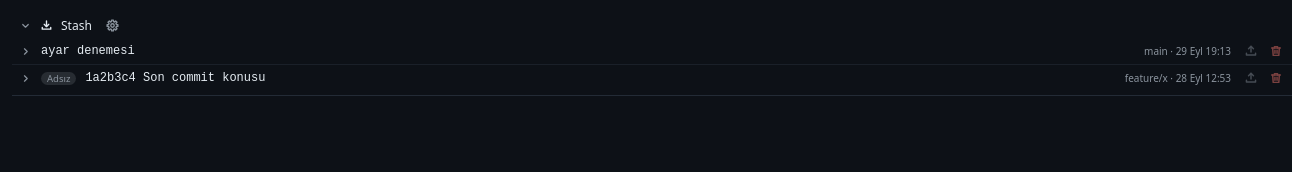
Test: uygulama › hata kutusu kapatılabiliyor ve başarılı deneme onu temizliyor
Click the 1st button named "Uygula (stash listede kalır)".
click(1251, 51)  # box [1239,40,1263,62]
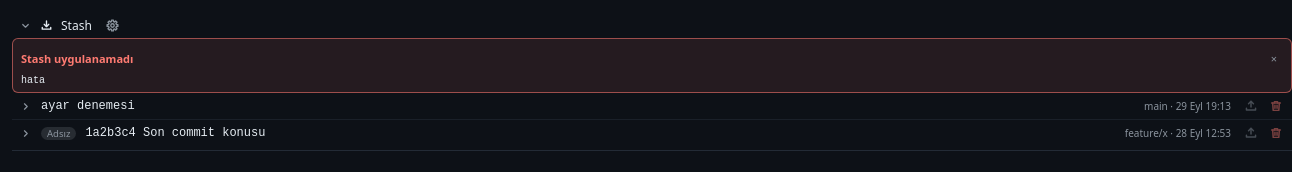
Click the button "×".
click(1274, 58)  # box [1265,45,1283,71]
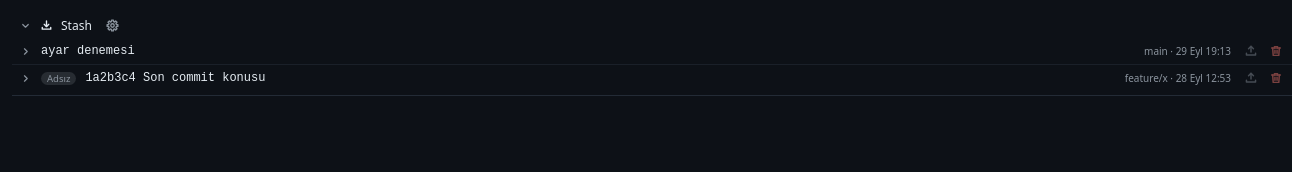
Result: the message with class "git-commit-error" is gone
Click the 1st button named "Uygula (stash listede kalır)".
click(1251, 51)  # box [1239,40,1263,62]
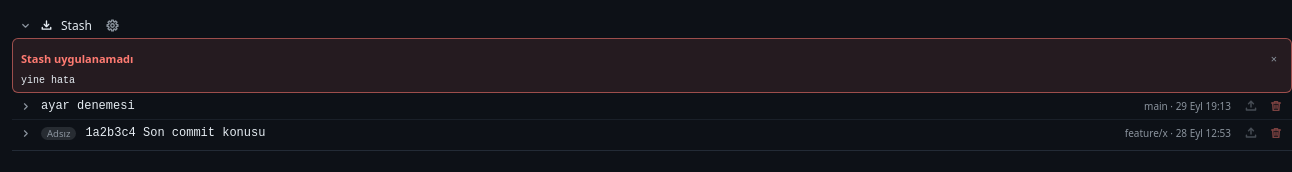
Result: the message "Stash uygulanamadı × yine hata" is shown at [12,38,1291,93]
Click the 1st button named "Uygula (stash listede kalır)".
click(1251, 106)  # box [1239,95,1263,117]
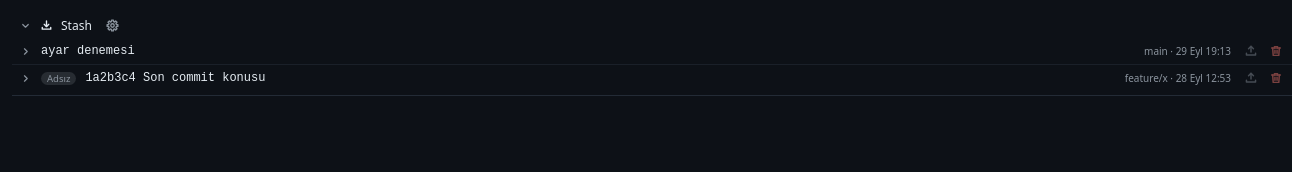
Result: the message with class "git-commit-error" is gone
